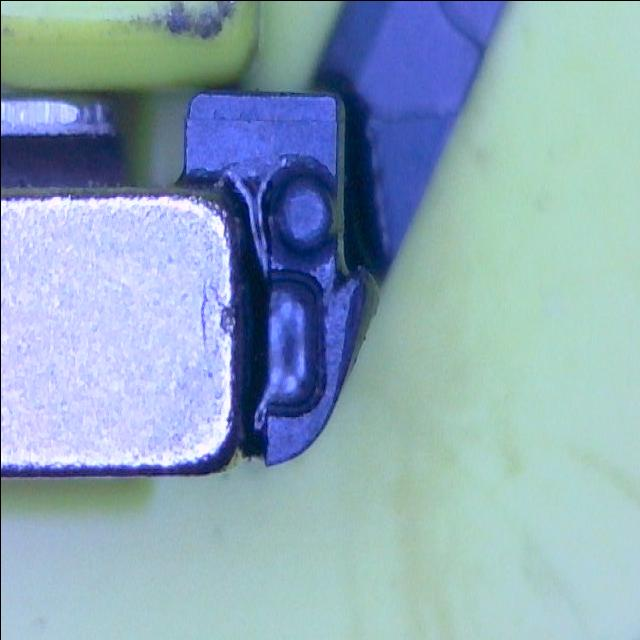over: (254, 266, 328, 418)
